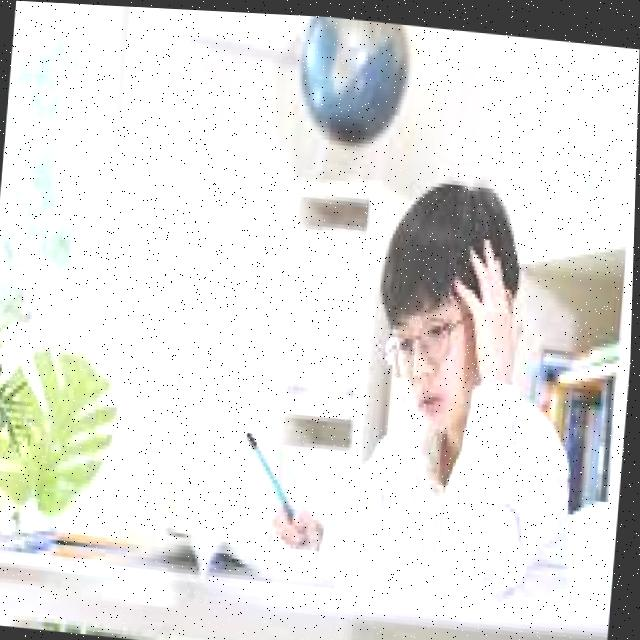studying-person: (92, 129, 618, 625)
